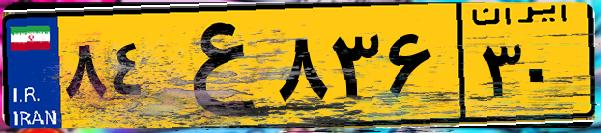0: (525, 38, 570, 115)
3: (330, 28, 385, 110), (475, 38, 525, 113)
4: (110, 28, 158, 98)
6: (385, 28, 445, 110)
8: (270, 28, 330, 110), (57, 26, 110, 100)
ع: (158, 12, 270, 120)
